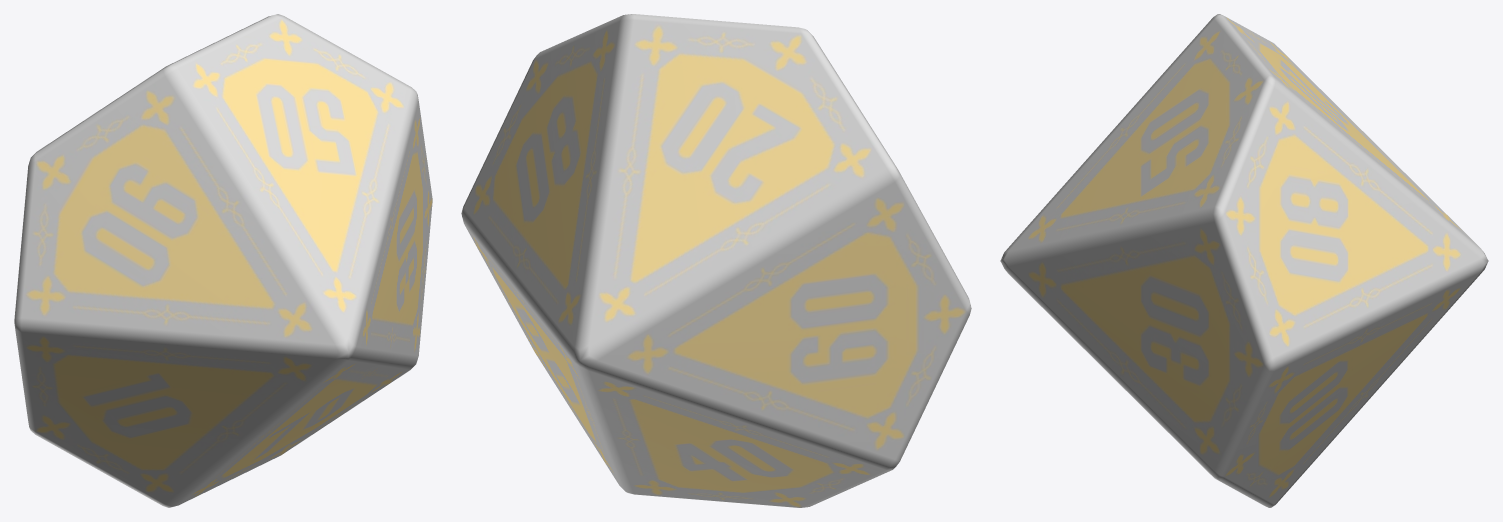
Rendered from dicemodel_d100.gltf.
The picture shows the model from 3 angles, left to right: view 1: azimuth 30°, elevation 25°; view 2: azimuth 150°, elevation 25°; view 3: azimuth 270°, elevation 25°; orthographic projection. The views are drawn at different scales.
Visible parts, largest first — view 1: dicemodel_d100; view 2: dicemodel_d100; view 3: dicemodel_d100.
Boxes of the visible parts, left/top/right/bottom form: dicemodel_d100: left=14, top=14, right=432, bottom=507; dicemodel_d100: left=461, top=14, right=971, bottom=507; dicemodel_d100: left=1000, top=14, right=1488, bottom=507.
Size of the model in its own units: 171 by 163 by 167.
1 material, 1 textured.
